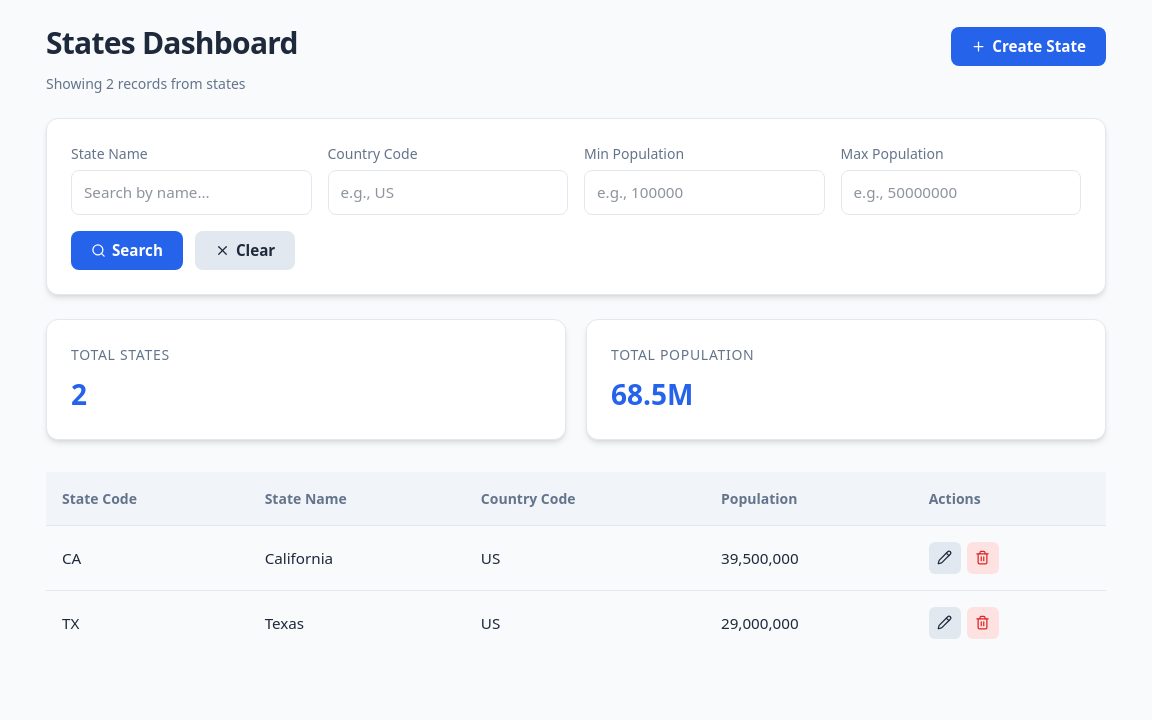
it: shows zero-city delete impact preview when no dependent cities exist
Click the button named "Delete state" in the row of "California".
click(983, 558)  # box [967,542,999,574]
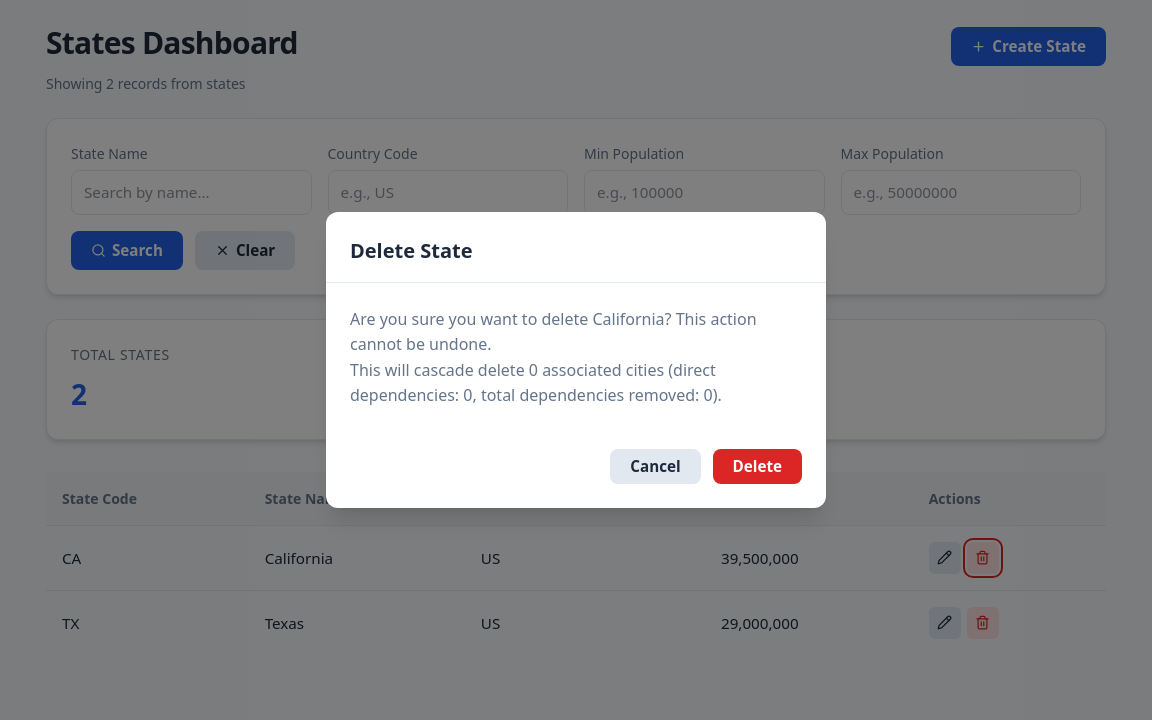
Now the text "cascade delete 0 associated cities (direct dependencies: 0, total dependencies removed: 0)" is shown, box [350,359,722,406]
